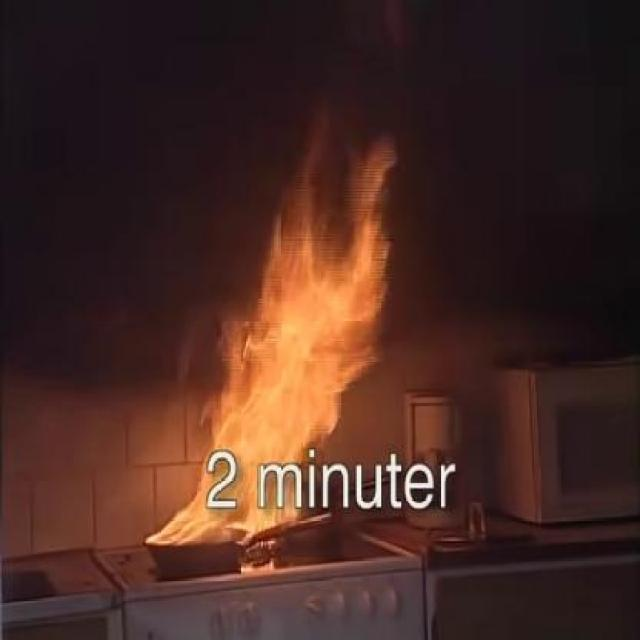fire: (173, 288, 327, 536), (286, 170, 349, 344)
smoke: (317, 357, 480, 452), (164, 196, 276, 270), (376, 242, 450, 320)
